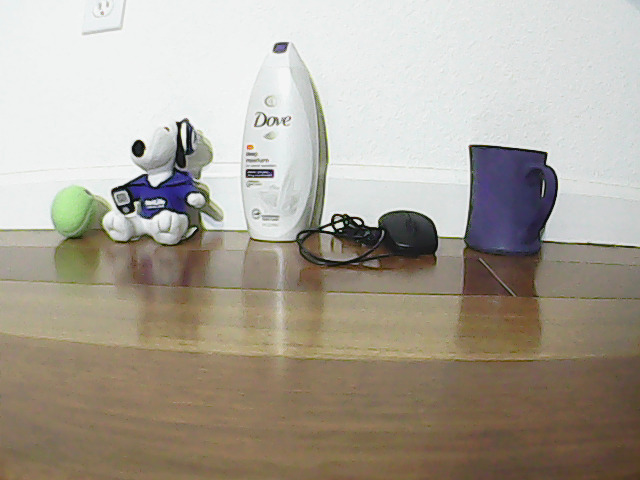ball: (52, 175, 100, 240)
mouse: (376, 209, 440, 258)
mug: (456, 126, 560, 272)
snoopy: (122, 119, 208, 244)
soap: (241, 38, 324, 239)
